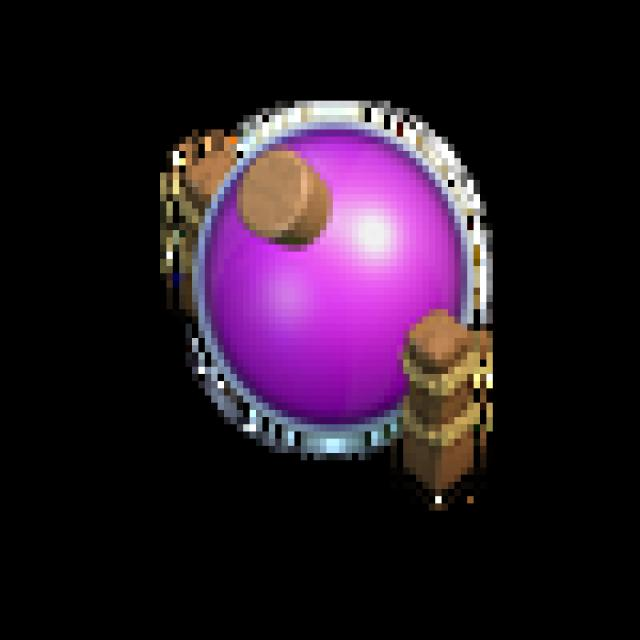elixir_storage: (143, 100, 510, 507)
